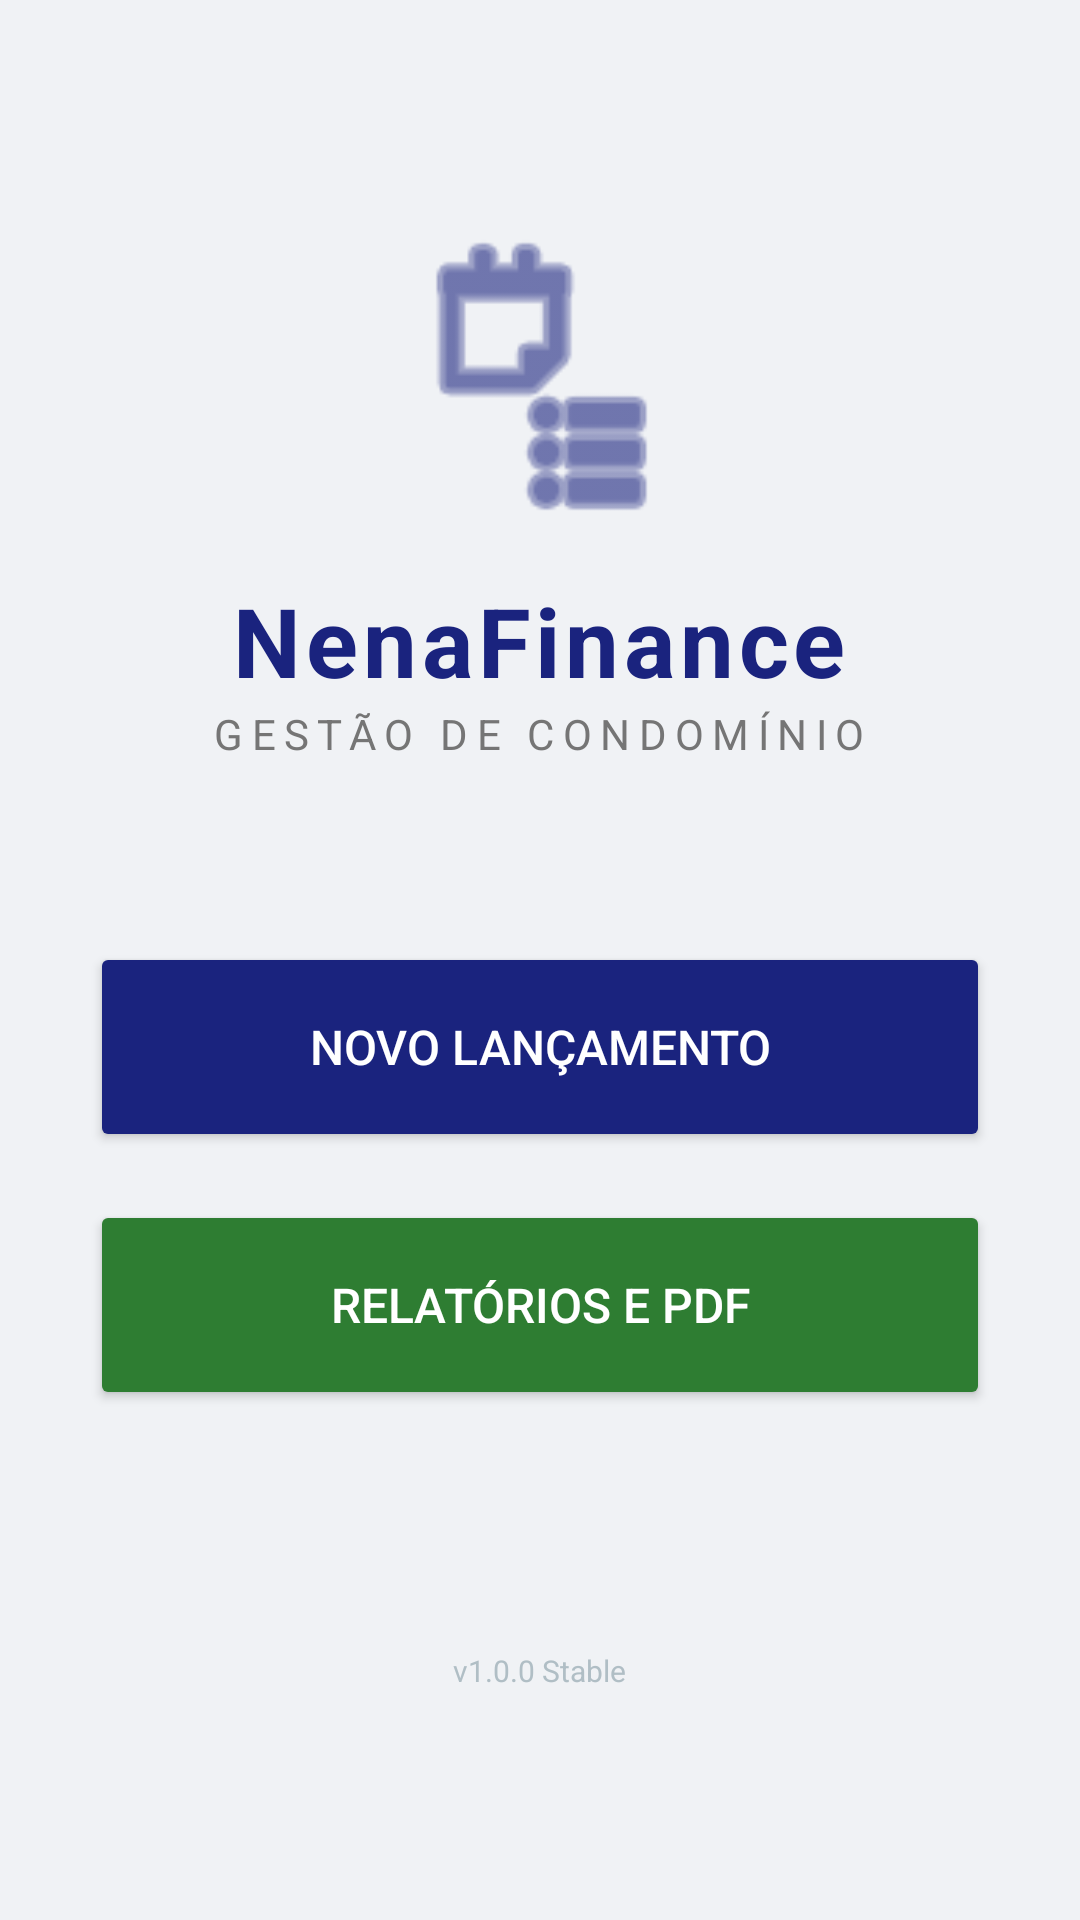

Where to tap for icons on this 1080x1920 app screen, as point (x, y):
agenda: point (541, 376)
